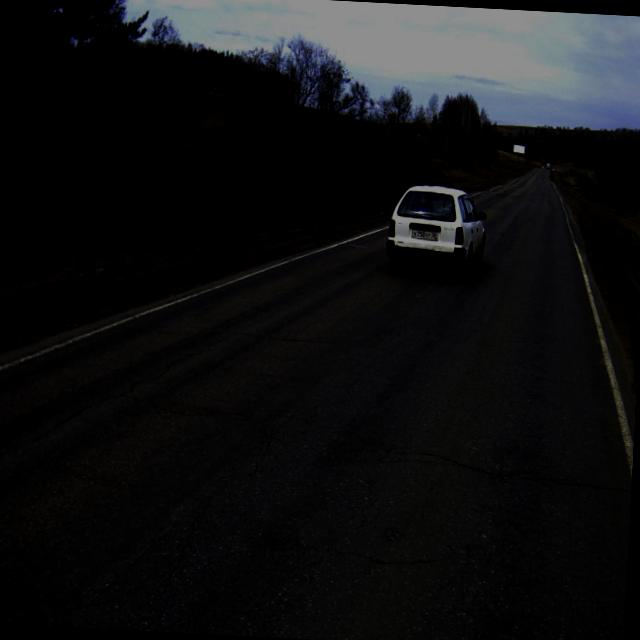road: (0, 168, 633, 640)
